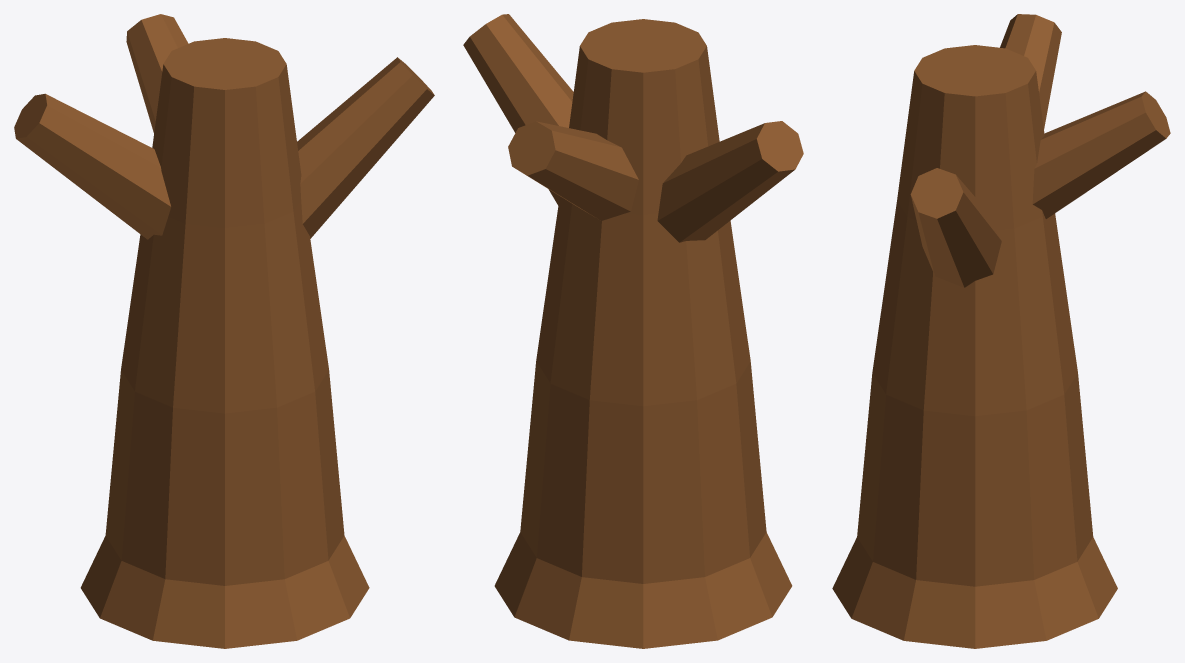
The model's file is OakTrunk.glb.
3 renders of one model, left to right at view 1: azimuth 30°, elevation 25°; view 2: azimuth 150°, elevation 25°; view 3: azimuth 270°, elevation 25°, orthographic. The views are drawn at different scales.
Visible parts, largest first — view 1: OakTrunk_Bark; view 2: OakTrunk_Bark; view 3: OakTrunk_Bark.
Part boxes in pixels (x1,y1,x2,y2): OakTrunk_Bark: (14, 14, 434, 648); OakTrunk_Bark: (463, 14, 803, 648); OakTrunk_Bark: (832, 14, 1170, 648).
Size of the model in its own units: 2.19 by 3 by 1.78.
